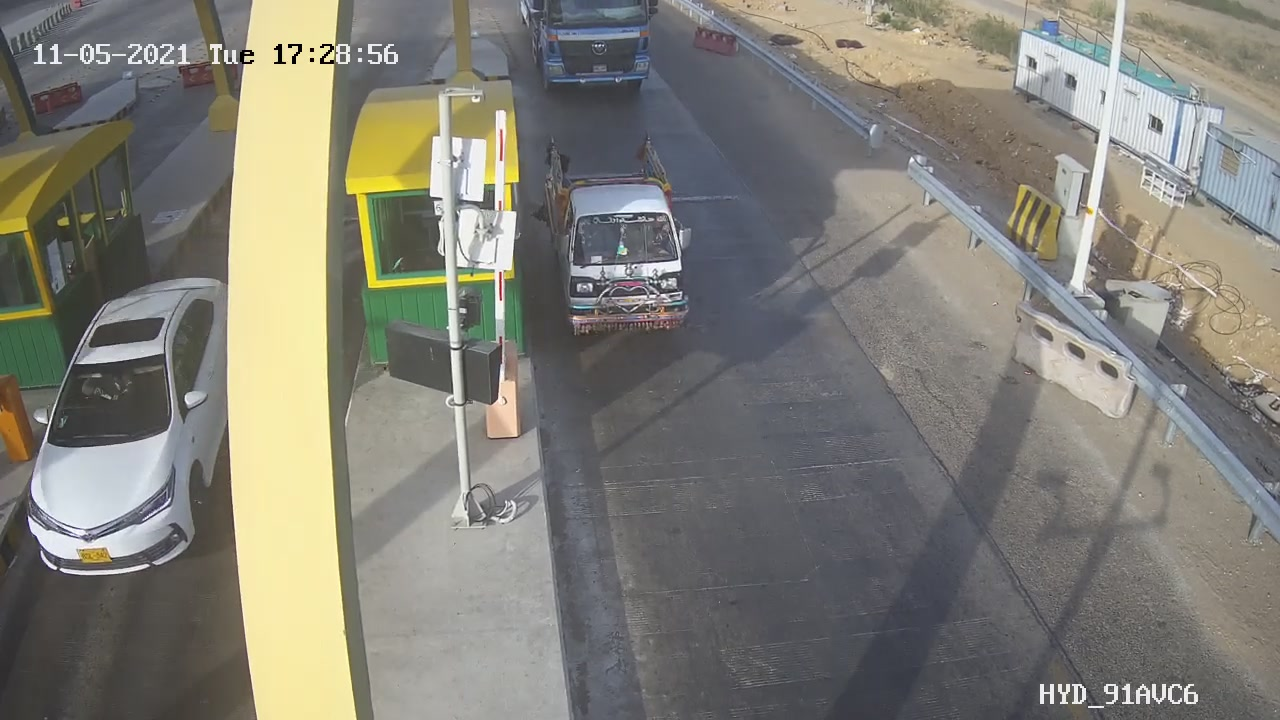F1: (536, 125, 700, 351)
